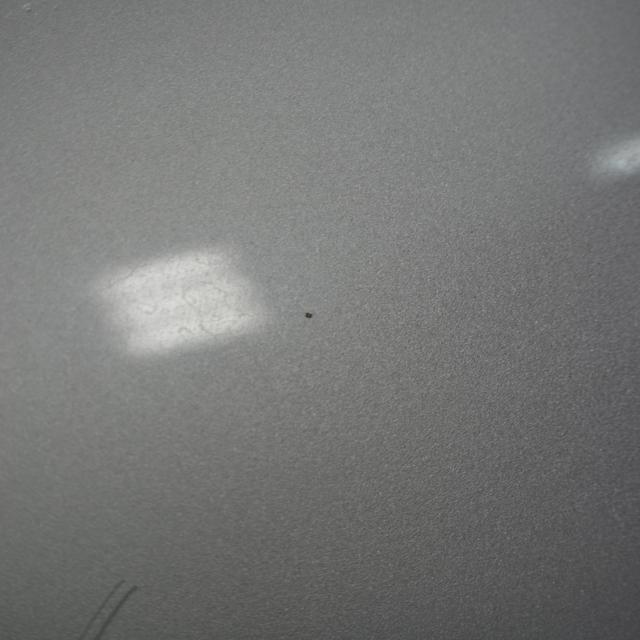dirt: (303, 311, 315, 321)
water marks: (170, 281, 248, 344)
